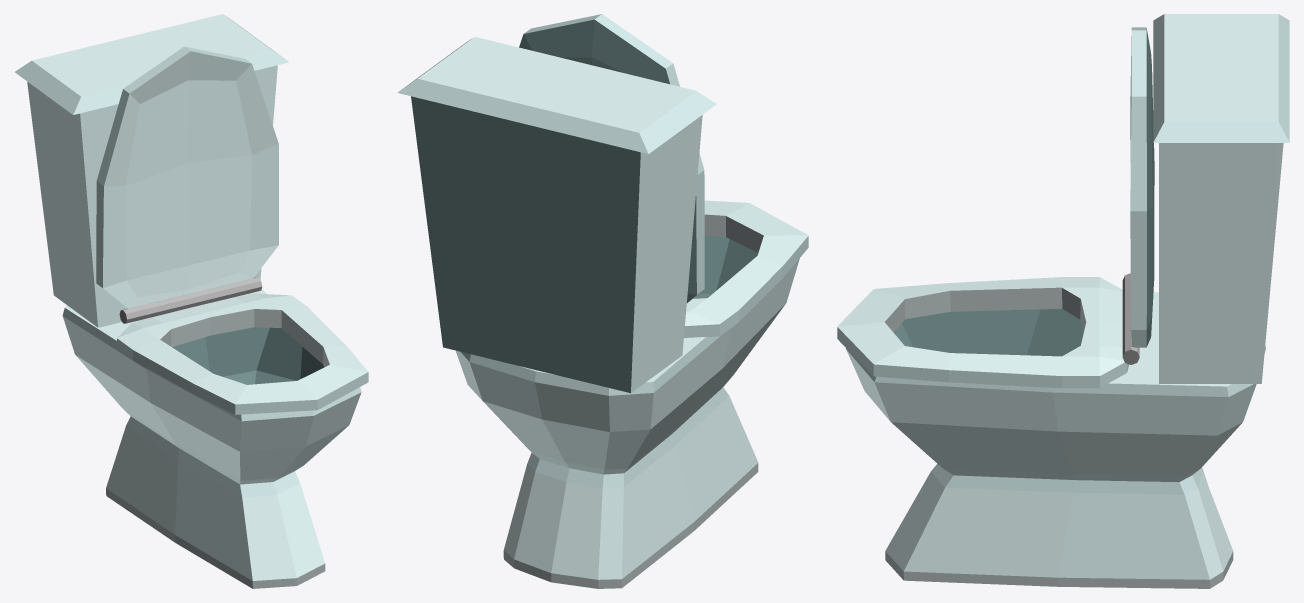
File: Toilet.fbx
3 views of the same model, side by side, from view 1: azimuth 30°, elevation 25°; view 2: azimuth 150°, elevation 25°; view 3: azimuth 270°, elevation 25° (orthographic). The views are drawn at different scales.
Parts seen in each view (by area): view 1: Toilet; view 2: Toilet; view 3: Toilet.
Part boxes in pixels (left/top/right/bottom): Toilet: left=15, top=14, right=368, bottom=588; Toilet: left=397, top=14, right=808, bottom=588; Toilet: left=837, top=14, right=1289, bottom=588.
Size of the model in its own units: 75.54 by 152 by 118.
